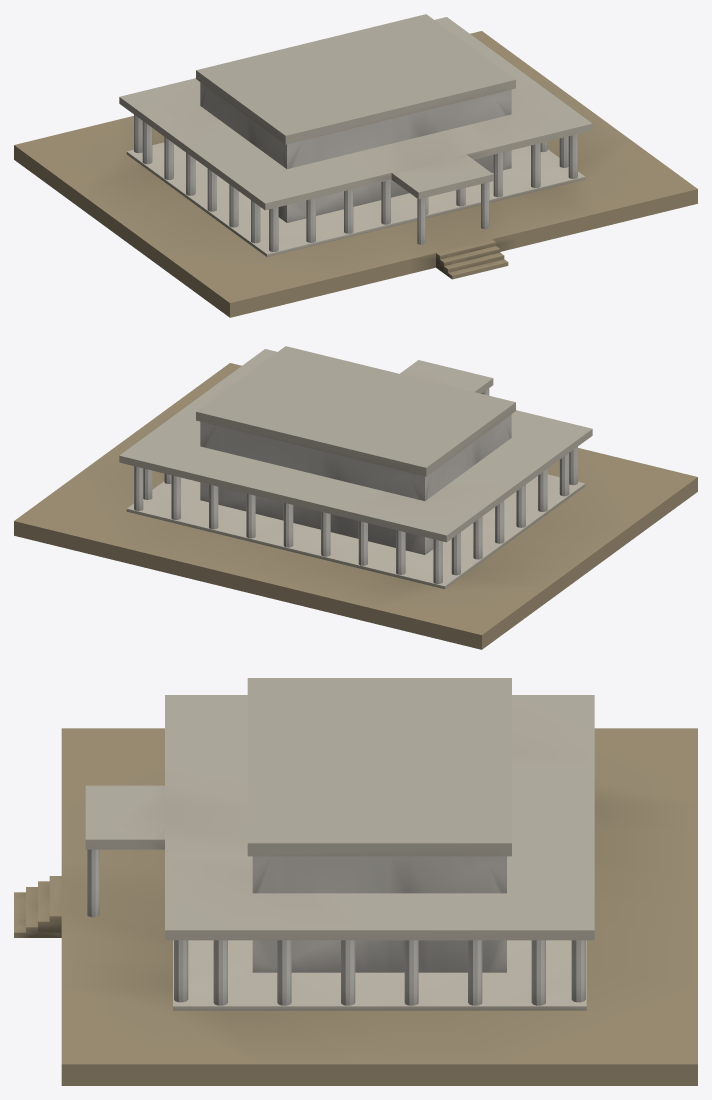
File: metcalfe-house.glb
3 renders of one model, top to bottom at view 1: azimuth 30°, elevation 25°; view 2: azimuth 150°, elevation 25°; view 3: azimuth 270°, elevation 25°, orthographic. The views are drawn at different scales.
Visible parts, largest first — view 1: p2_roof, p0_terrace, p1_house; view 2: p0_terrace, p2_roof, p1_house; view 3: p2_roof, p0_terrace, p1_house.
Boxes of the visible parts, <box> form: p2_roof: <box>119,14,592,279</box>; p0_terrace: <box>14,31,697,317</box>; p1_house: <box>126,82,585,257</box>; p0_terrace: <box>14,363,697,649</box>; p2_roof: <box>119,346,592,542</box>; p1_house: <box>126,414,585,589</box>; p2_roof: <box>14,678,594,940</box>; p0_terrace: <box>61,728,697,1085</box>; p1_house: <box>173,856,586,1010</box>.
Size of the model in its own units: 50 by 10.9 by 43.
